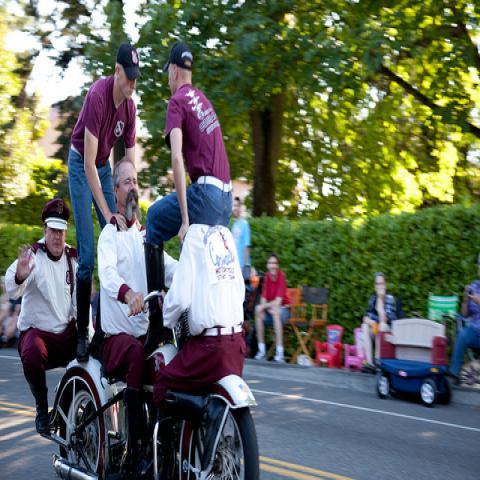motorcycle: (39, 286, 267, 472)
